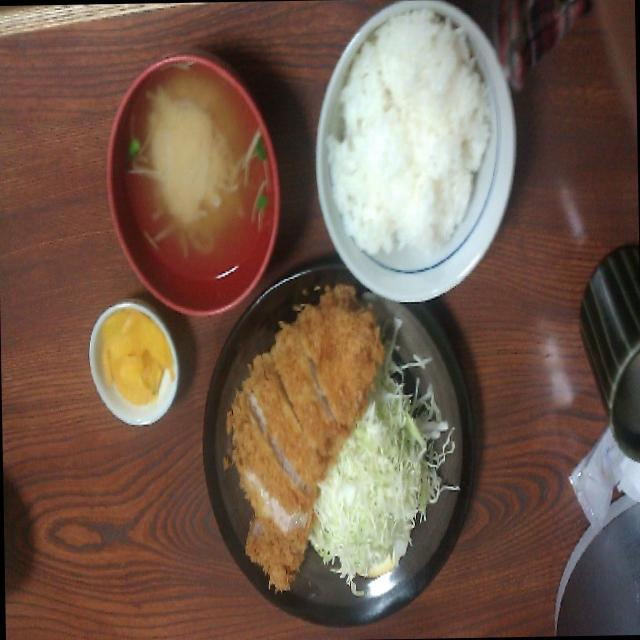Rice: (312, 3, 500, 262)
